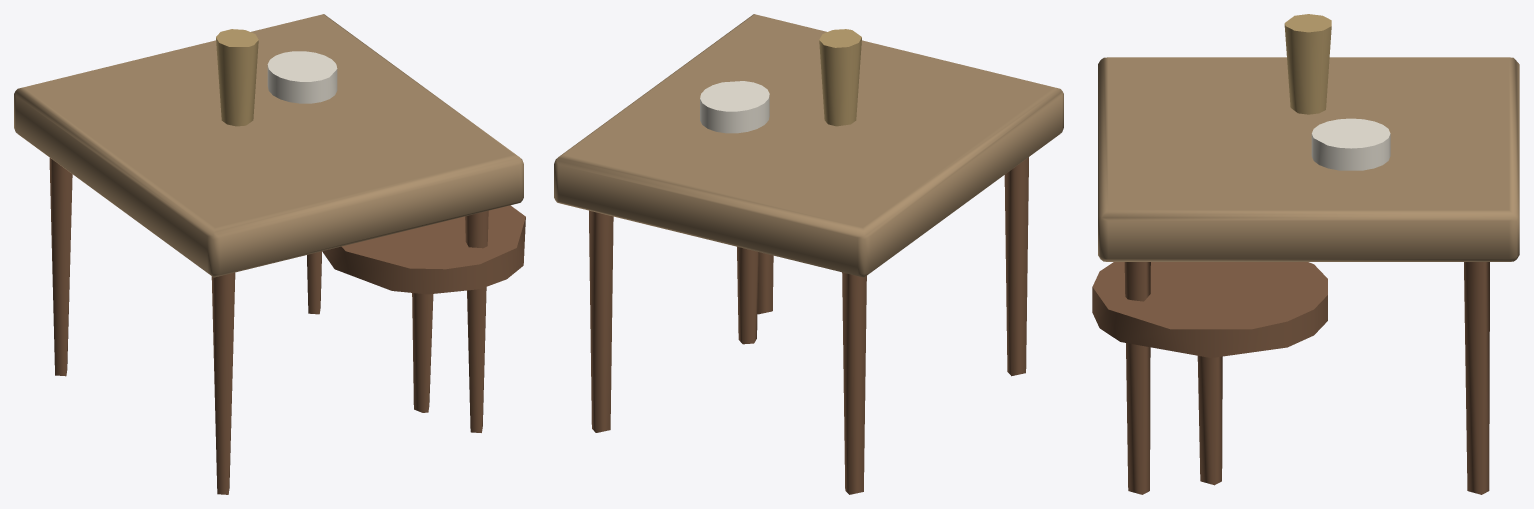
Rendered from table-21-1.lod.glb.
3 renders of one model, left to right at view 1: azimuth 30°, elevation 25°; view 2: azimuth 150°, elevation 25°; view 3: azimuth 270°, elevation 25°, orthographic. The views are drawn at different scales.
Parts seen in each view (by area): view 1: upholstery, part (×3); view 2: upholstery, part (×3); view 3: upholstery, part (×3).
Boxes of the visible parts, <box> form: upholstery: <box>14,14,523,277</box>; part (×3): <box>49,29,525,494</box>; upholstery: <box>554,14,1063,277</box>; part (×3): <box>589,29,1028,494</box>; upholstery: <box>1098,57,1519,261</box>; part (×3): <box>1092,14,1489,494</box>.
Bounding box in the file's own units: 1 × 1 × 1.
